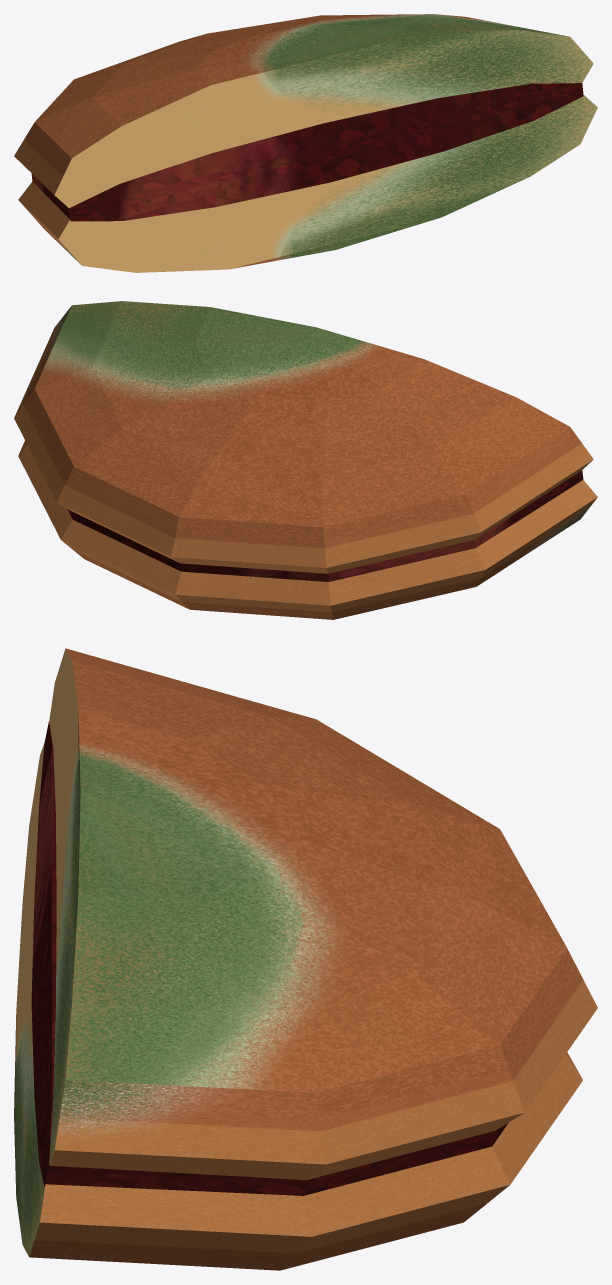
File: dorayakiMAL.fbx
The picture shows the model from 3 angles, top to bottom: view 1: azimuth 30°, elevation 25°; view 2: azimuth 150°, elevation 25°; view 3: azimuth 270°, elevation 25°; orthographic projection. The views are drawn at different scales.
Parts seen in each view (by area): view 1: DorayakiMAL; view 2: DorayakiMAL; view 3: DorayakiMAL.
Boxes of the visible parts, x1,y1,x2,y2 form: DorayakiMAL: (14,14,597,272); DorayakiMAL: (14,301,597,619); DorayakiMAL: (14,648,597,1270).
Size of the model in its own units: 200 by 70.12 by 106.
